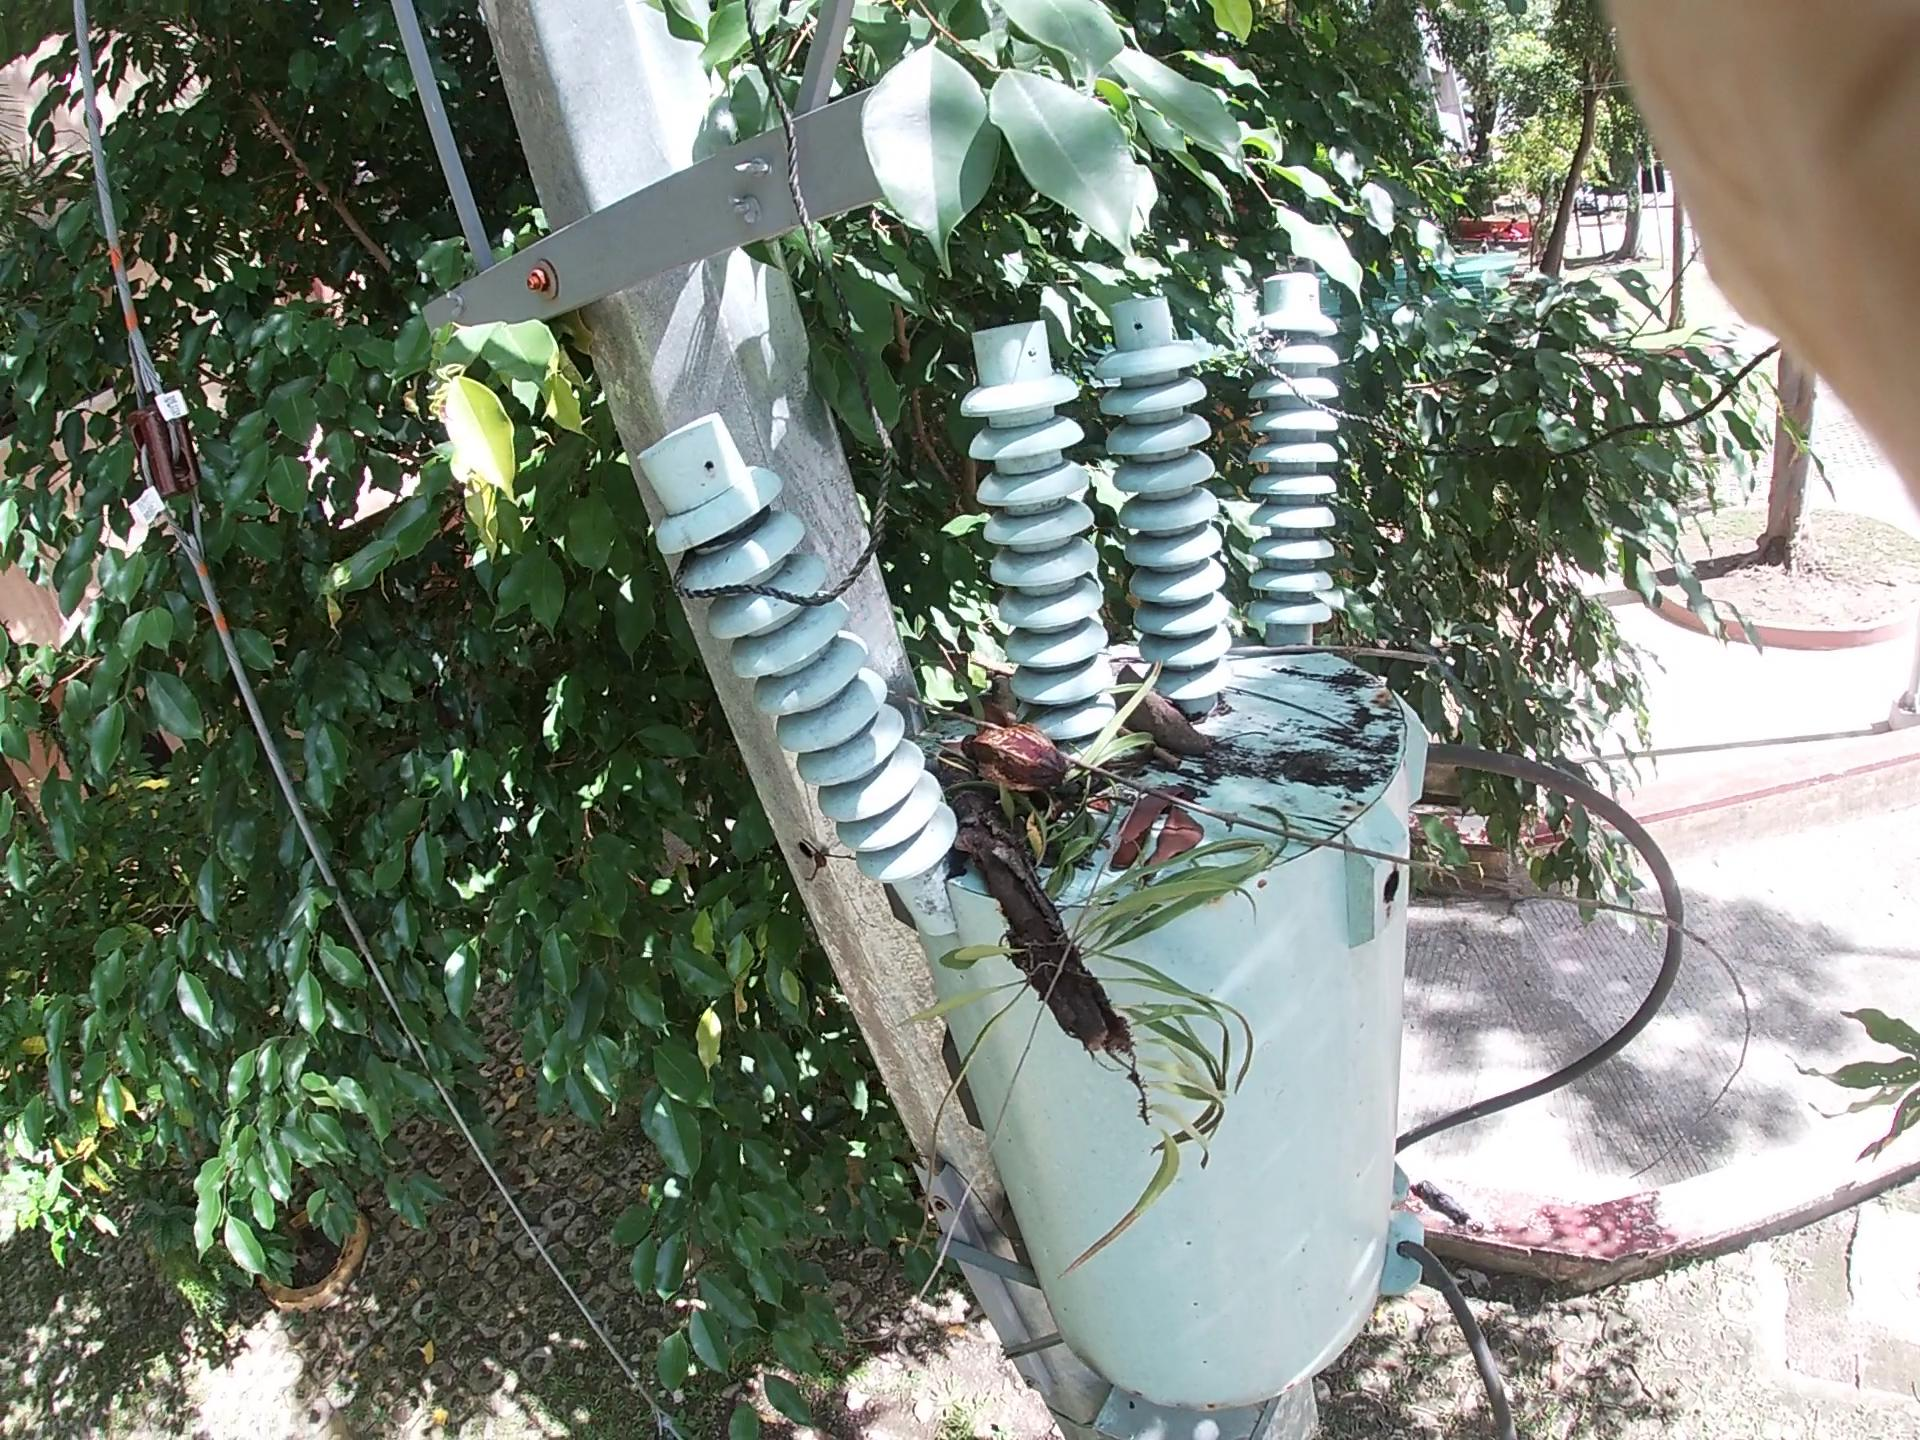branch with leaves: (915, 782, 1208, 1195)
leaf: (1061, 774, 1203, 889)
mahogany fruit: (1105, 637, 1256, 784), (954, 700, 1105, 811)
tree branch: (881, 712, 1866, 1032), (1138, 640, 1492, 729)
